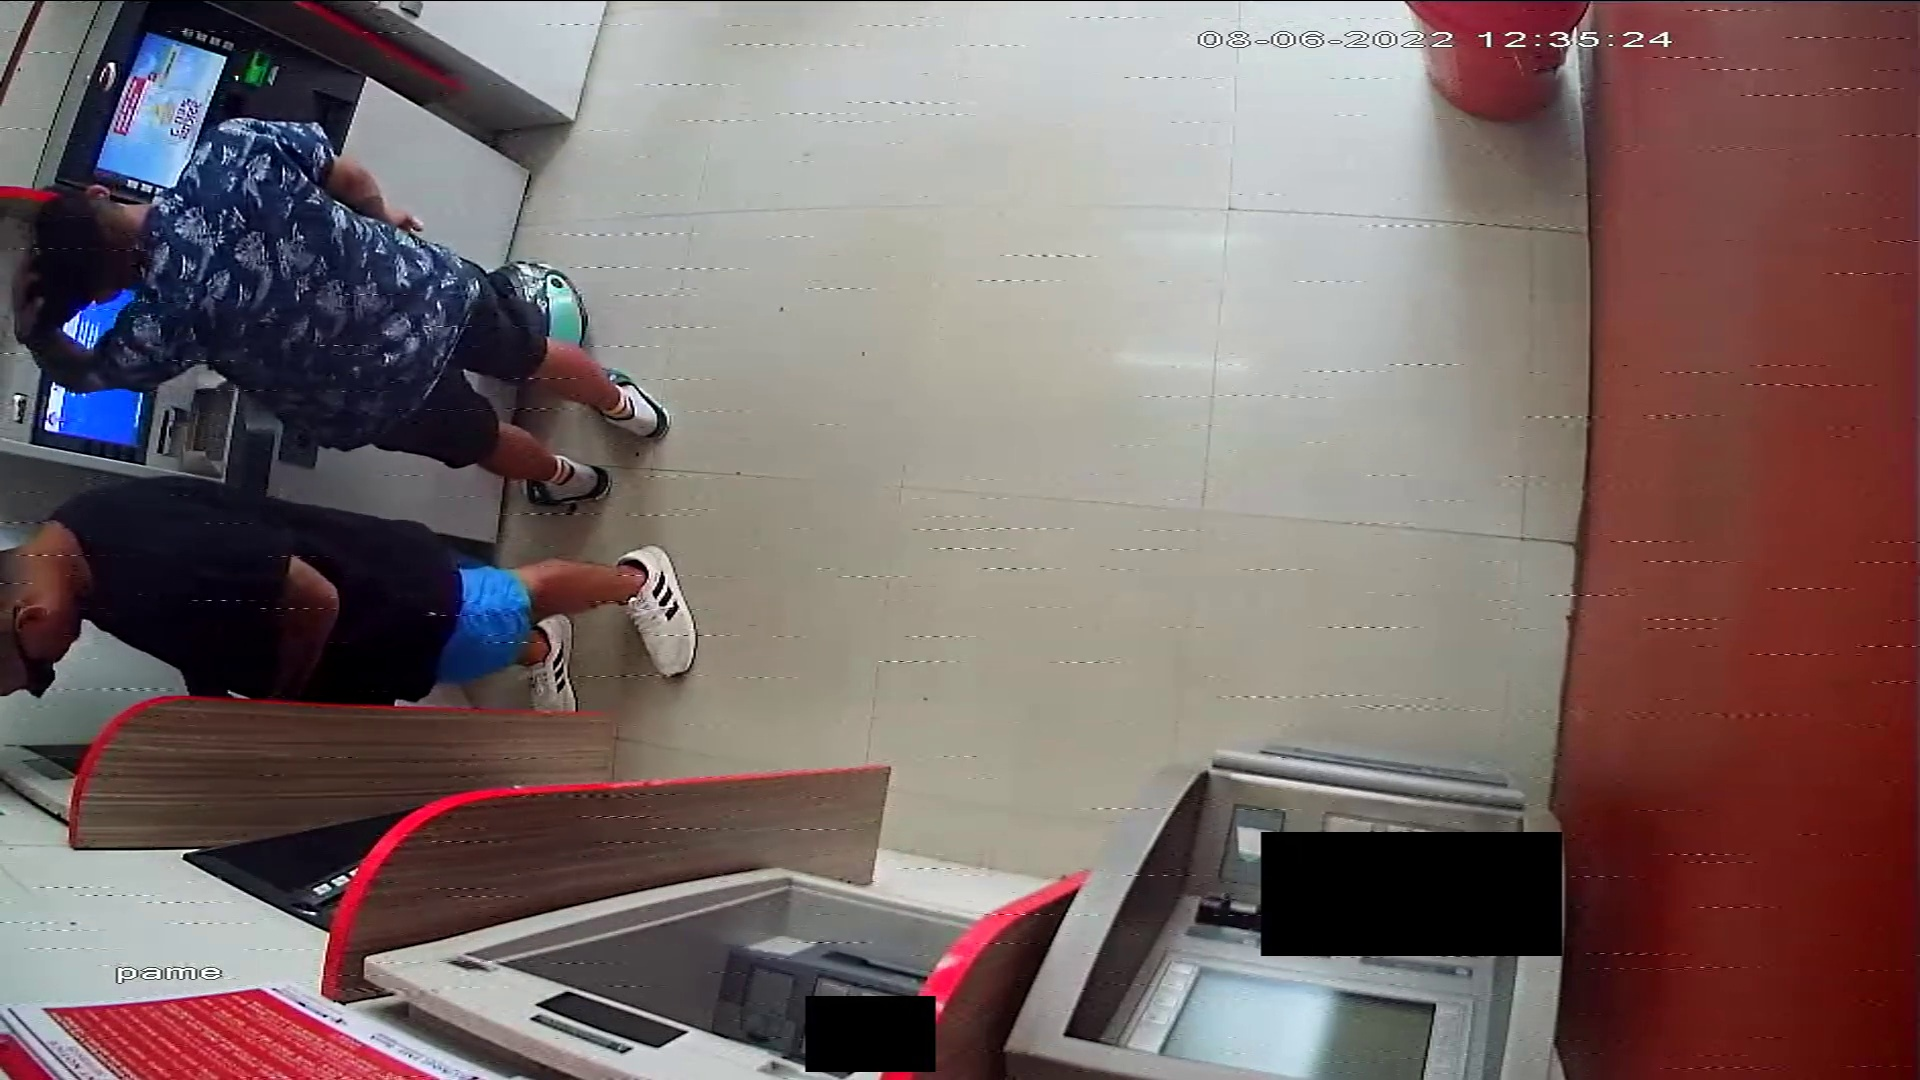helmet: (489, 256, 590, 342)
person: (29, 120, 667, 502), (1, 474, 695, 714)
